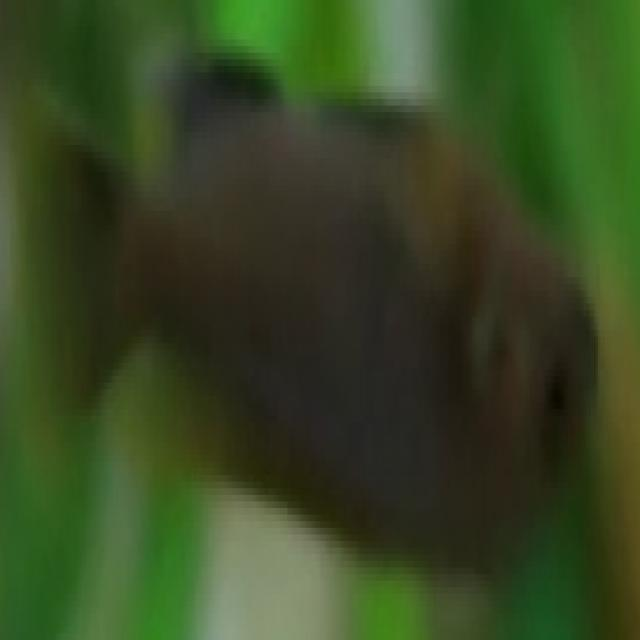fish: (1, 0, 638, 634)
